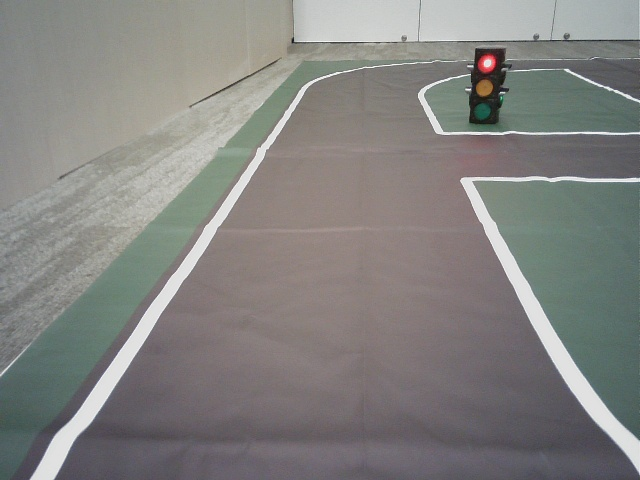red: (474, 50, 492, 118)
